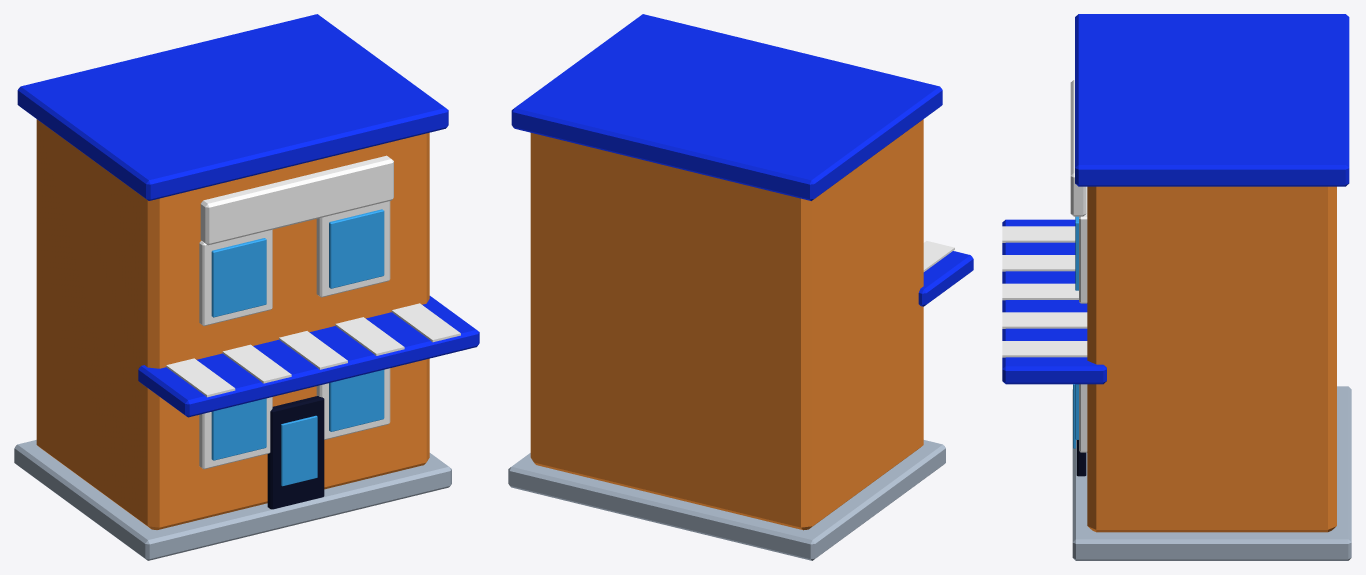
File: ENV_streets_shopfront__v001__model.fbx
3 renders of one model, left to right at view 1: azimuth 30°, elevation 25°; view 2: azimuth 150°, elevation 25°; view 3: azimuth 270°, elevation 25°, orthographic. The views are drawn at different scales.
Visible parts, largest first — view 1: ENV_streets_shopfront_Mesh; view 2: ENV_streets_shopfront_Mesh; view 3: ENV_streets_shopfront_Mesh.
Boxes of the visible parts, <box> form: ENV_streets_shopfront_Mesh: <box>14,14,479,560</box>; ENV_streets_shopfront_Mesh: <box>508,14,973,560</box>; ENV_streets_shopfront_Mesh: <box>1002,14,1351,560</box>.
Size of the model in its own units: 3.7 by 4.37 by 3.5.
1 material, 1 textured.
